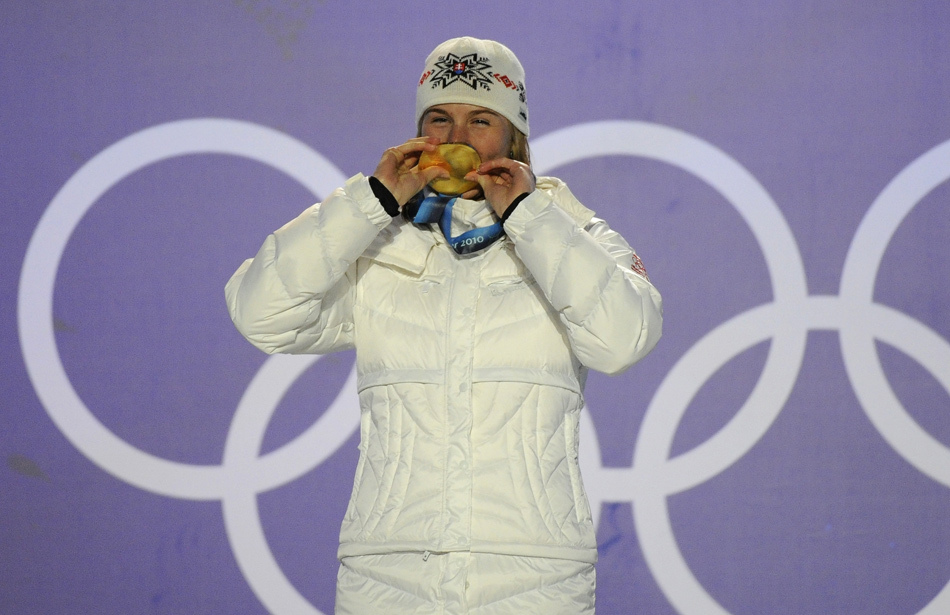face: (419, 88, 508, 192)
